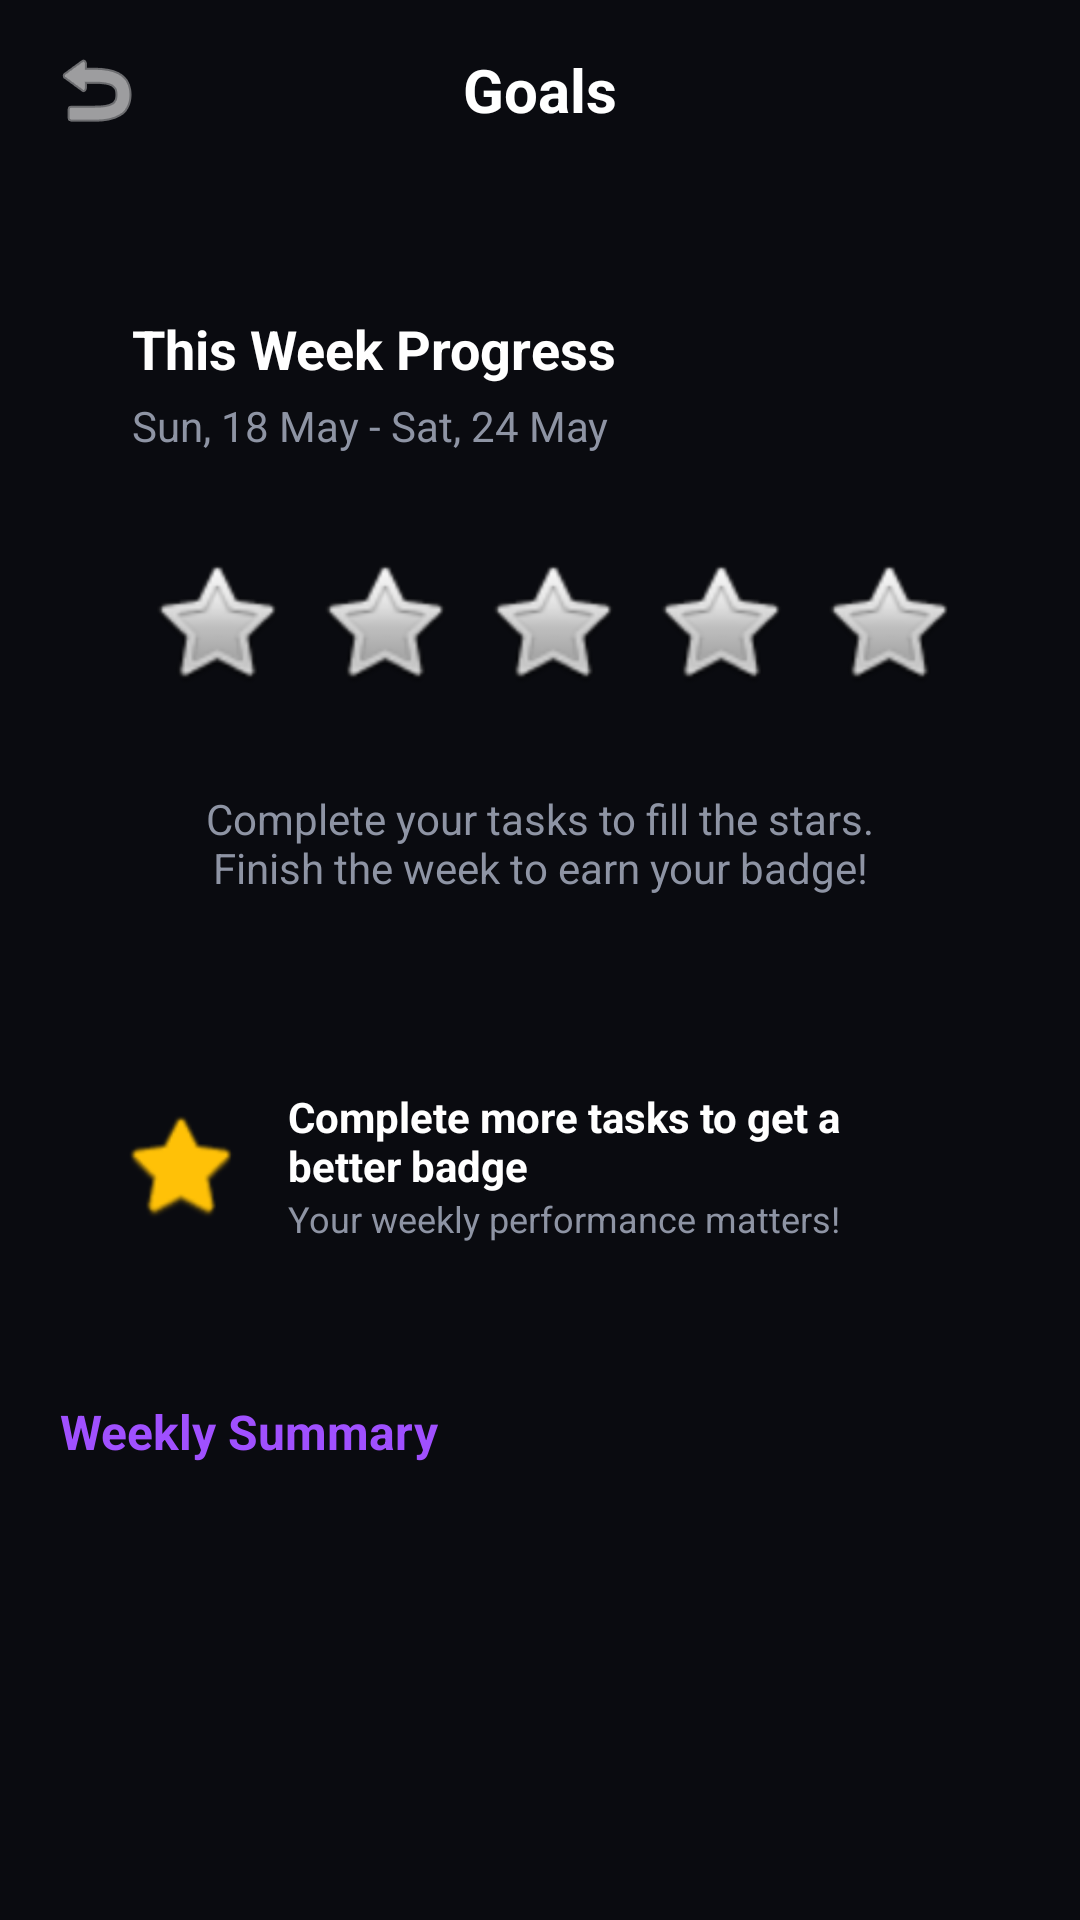

Screen size 1080w x 1920h. Icon name, then its center in pixels as point (x, y):
Back: point (97, 90)
star off: point (217, 622), point (385, 622), point (553, 622), point (721, 622), point (889, 622)
star on: point (181, 1166)
